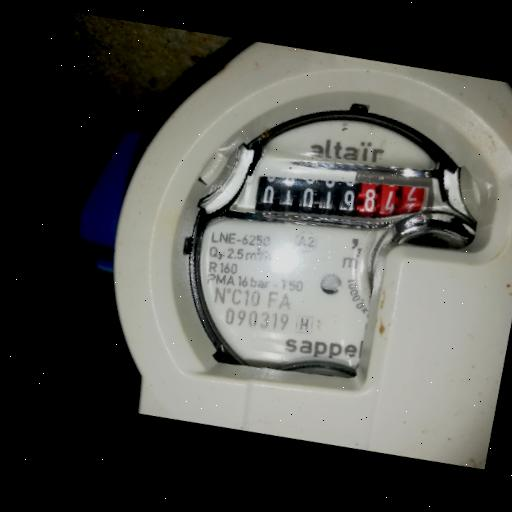0: (250, 172, 287, 216), (292, 174, 325, 217)
1: (273, 174, 306, 217), (314, 178, 346, 219)
2: (395, 182, 427, 220)
4: (374, 181, 405, 222)
8: (352, 180, 385, 223)
9: (333, 179, 365, 220)
border_water_meter_number: (245, 145, 434, 254)
